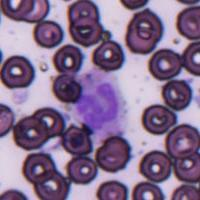N: (74, 69, 126, 135)
